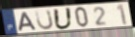0: (74, 6, 91, 29)
1: (116, 3, 128, 27)
2: (93, 6, 109, 27)
A: (18, 11, 38, 32)
U: (53, 7, 74, 31), (35, 9, 55, 31)
